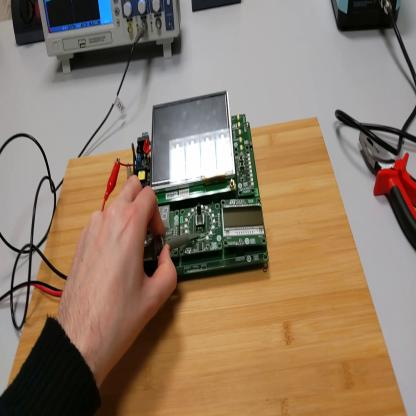hand: (60, 172, 175, 367)
low voltage board: (121, 93, 270, 281)
oscilloscope: (40, 1, 184, 75)
oscilloscope probe tip: (144, 234, 201, 262)
pliers: (358, 125, 416, 251)
socket: (12, 2, 45, 48)
welder station: (333, 2, 402, 32)
working area: (10, 116, 407, 416)
